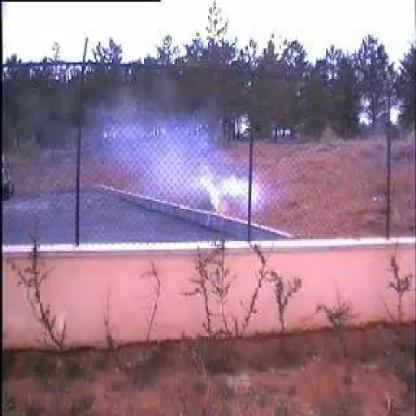-: (82, 96, 260, 235)
